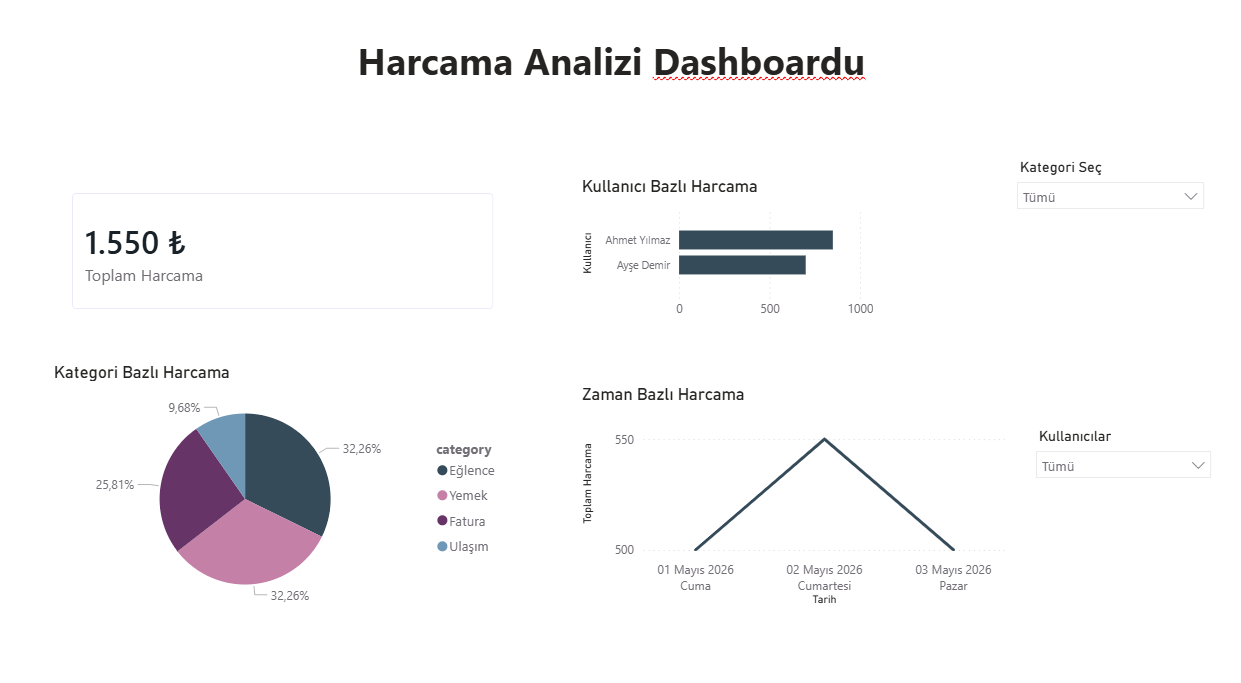

The page's visual inventory and layout, read from the dashboard file:
{"tool":"powerbi","page":{"name":"1. sayfa","canvas":[1280,720],"ordinal":0},"visuals":[{"type":"pieChart","title":"Kategori Bazlı Harcama","fields":{"Category":["Expenses.category"],"Y":["Sum(Expenses.amount)"]},"box":[77.8,387.1,465.9,254.8],"z":0},{"type":"clusteredBarChart","title":"Kullanıcı Bazlı Harcama","fields":{"Category":["Users.name"],"Y":["Sum(Expenses.amount)"]},"box":[605.5,200.8,300.8,150.9],"z":1000},{"type":"lineChart","title":"Zaman Bazlı Harcama","fields":{"Y":["Sum(Expenses.amount)"],"Category":["Expenses.expense_date"]},"box":[605.5,408.7,440.7,225.8],"z":2000},{"type":"textbox","box":[0,21.4,1280,133.3],"z":3000},{"type":"cardVisual","fields":{"Data":["Budget.ToplamHarcama_Text"]},"box":[83.6,201.3,455.2,150.8],"z":4000},{"type":"slicer","fields":{"Values":["Expenses.category"]},"box":[1035.2,178.9,206.8,172.9],"z":4001},{"type":"slicer","fields":{"Values":["Users.name"]},"box":[1054.2,447.7,194.8,91.9],"z":4002}]}

Visuals, with their boxes in screenshot pixels (x1, y1, x2, y2), scaled from the page's 1280x720 canvas onto the 1241x683 screenshot:
"Kategori Bazlı Harcama" pieChart: detection(75, 367, 527, 609)
"Kullanıcı Bazlı Harcama" clusteredBarChart: detection(587, 190, 879, 334)
"Zaman Bazlı Harcama" lineChart: detection(587, 388, 1014, 602)
textbox: detection(0, 20, 1240, 147)
cardVisual - Budget.ToplamHarcama_Text: detection(81, 191, 522, 334)
slicer - Expenses.category: detection(1004, 170, 1204, 334)
slicer - Users.name: detection(1022, 425, 1211, 512)
